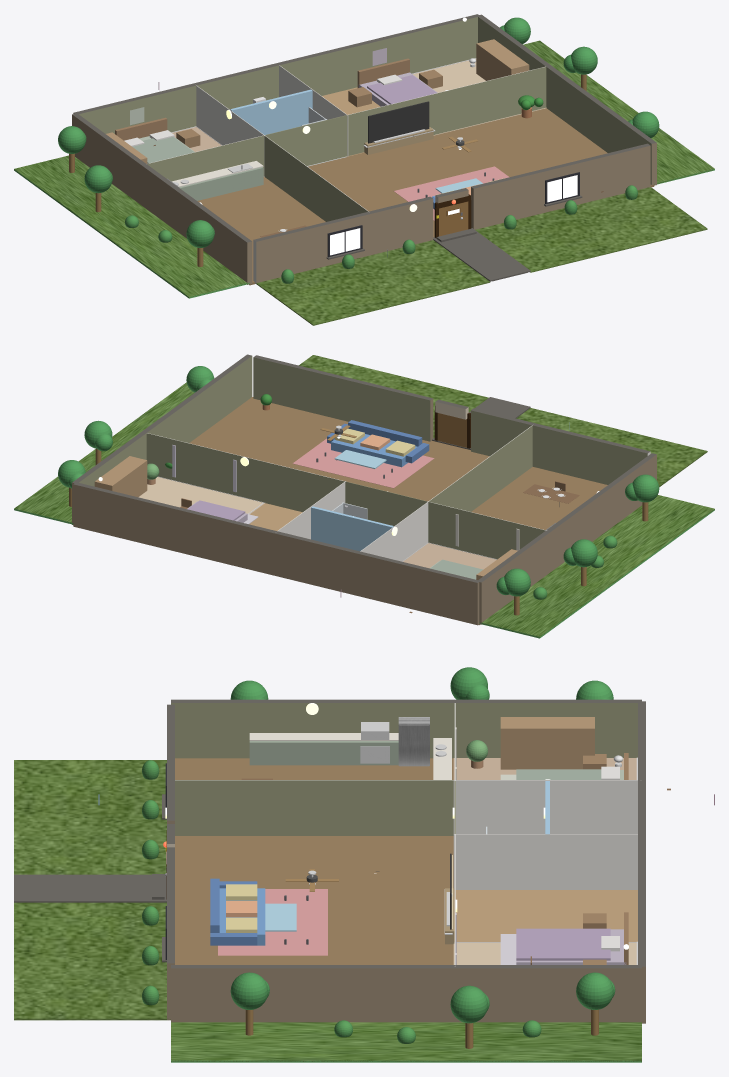
Rendered from casa_domotica_blender.glb.
3 renders of one model, top to bottom at view 1: azimuth 30°, elevation 25°; view 2: azimuth 150°, elevation 25°; view 3: azimuth 270°, elevation 25°, orthographic. The views are drawn at different scales.
Parts seen in each view (by area): view 1: floor_main, wall_ext_N, lawn_front_left, lawn_front_right, garden_left, wall_ext_W, wall_ext_SL, wall_ext_SR, room2_wall_S, wall_ext_E, living_wall_W, garden_right (+28 smaller); view 2: wall_ext_N, floor_main, garden_left, wall_ext_SR, room2_wall_S, wall_ext_W, wall_ext_SL, wall_ext_E, room1_wall_S, living_wall_W, lawn_front_left, garden_right (+25 smaller); view 3: floor_main, wall_ext_E, garden_right, wall_ext_W, lawn_front_right, lawn_front_left, living_wall_W, bath_wall_E, room1_wall_E, room2_floor, r1_wardrobe, path_entrance (+21 smaller).
Part boxes in pixels (x1=…): floor_main: x1=197, y1=108, x2=654, y2=285; wall_ext_N: x1=73, y1=14, x2=478, y2=133; lawn_front_left: x1=256, y1=240, x2=490, y2=325; lawn_front_right: x1=475, y1=187, x2=707, y2=272; garden_left: x1=14, y1=155, x2=247, y2=297; wall_ext_W: x1=72, y1=114, x2=252, y2=284; wall_ext_SL: x1=253, y1=196, x2=433, y2=283; wall_ext_SR: x1=471, y1=143, x2=650, y2=229; room2_wall_S: x1=346, y1=66, x2=546, y2=155; wall_ext_E: x1=477, y1=14, x2=656, y2=185; living_wall_W: x1=264, y1=136, x2=368, y2=221; garden_right: x1=523, y1=40, x2=714, y2=184; wall_ext_N: x1=73, y1=482, x2=480, y2=625; floor_main: x1=189, y1=397, x2=607, y2=624; garden_left: x1=480, y1=495, x2=714, y2=637; wall_ext_SR: x1=253, y1=355, x2=433, y2=441; room2_wall_S: x1=146, y1=433, x2=346, y2=512; wall_ext_W: x1=478, y1=453, x2=656, y2=624; wall_ext_SL: x1=471, y1=408, x2=650, y2=484; wall_ext_E: x1=72, y1=354, x2=252, y2=524; room1_wall_S: x1=427, y1=501, x2=546, y2=559; living_wall_W: x1=429, y1=425, x2=532, y2=511; lawn_front_left: x1=516, y1=408, x2=707, y2=486; garden_right: x1=14, y1=382, x2=194, y2=522; floor_main: x1=175, y1=758, x2=453, y2=964; wall_ext_E: x1=171, y1=965, x2=641, y2=1022; garden_right: x1=171, y1=1022, x2=641, y2=1061; wall_ext_W: x1=171, y1=699, x2=641, y2=758; lawn_front_right: x1=14, y1=902, x2=170, y2=1020; lawn_front_left: x1=14, y1=760, x2=166, y2=874; living_wall_W: x1=175, y1=780, x2=453, y2=835; bath_wall_E: x1=453, y1=834, x2=637, y2=889; room1_wall_E: x1=453, y1=780, x2=637, y2=834; room2_floor: x1=454, y1=890, x2=637, y2=941; r1_wardrobe: x1=500, y1=717, x2=594, y2=769; path_entrance: x1=14, y1=874, x2=166, y2=902.
Size of the model in its own units: 52 by 4.84 by 44.65.
97 materials, 2 textured.
